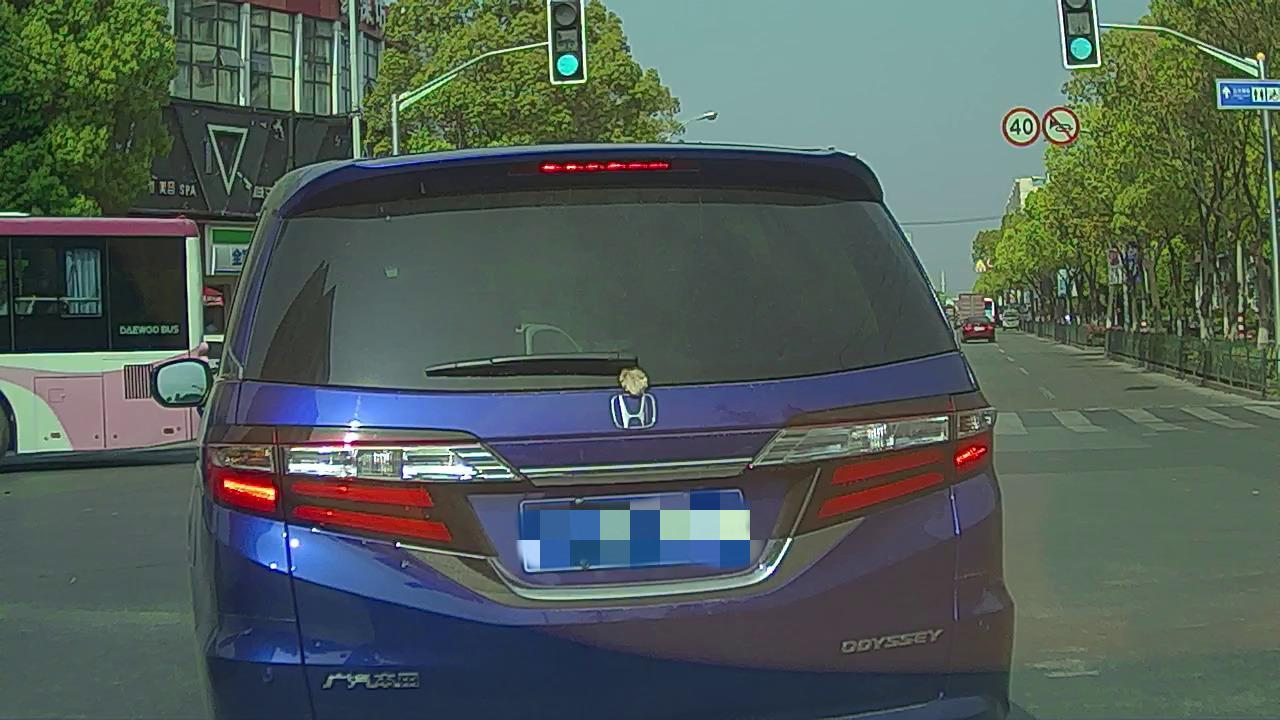traffic_light: (547, 1, 584, 78), (1061, 1, 1101, 70)
